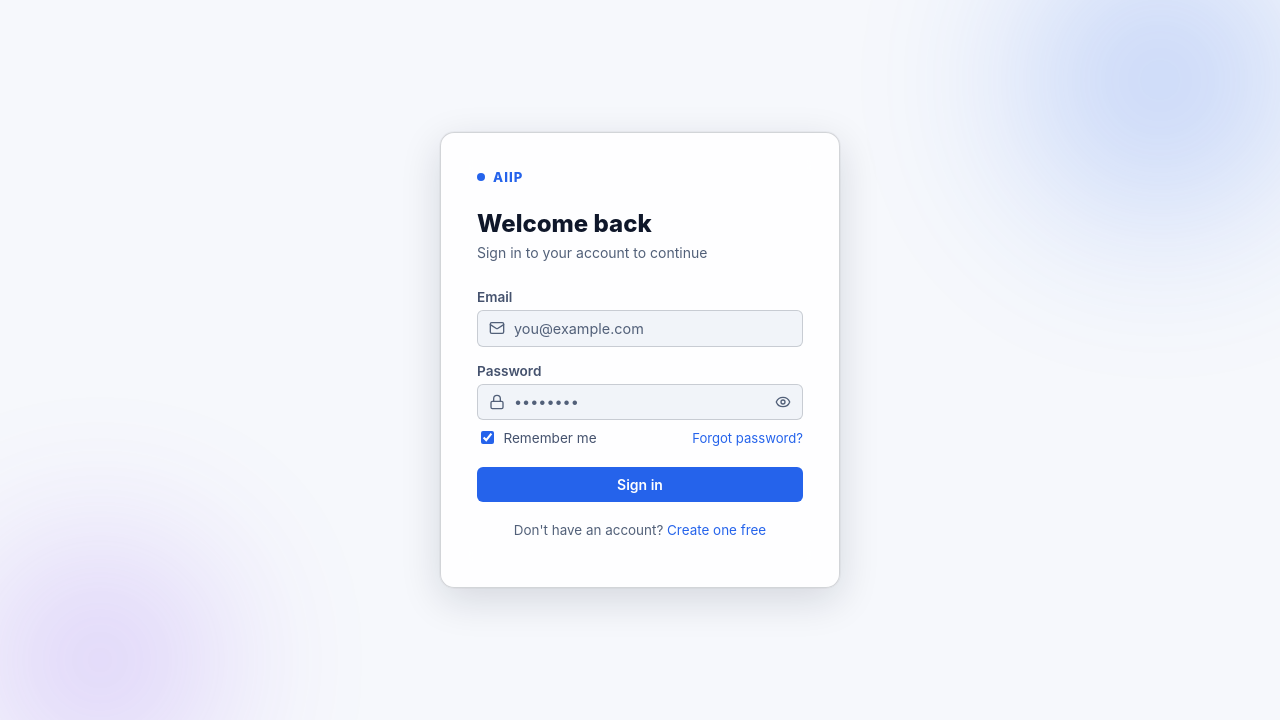
LoginPage › shows the backend's actual error message on a failed login (401)
In the field labelled "Email": (640, 328) [477,310,803,347], type "jane@example.com"
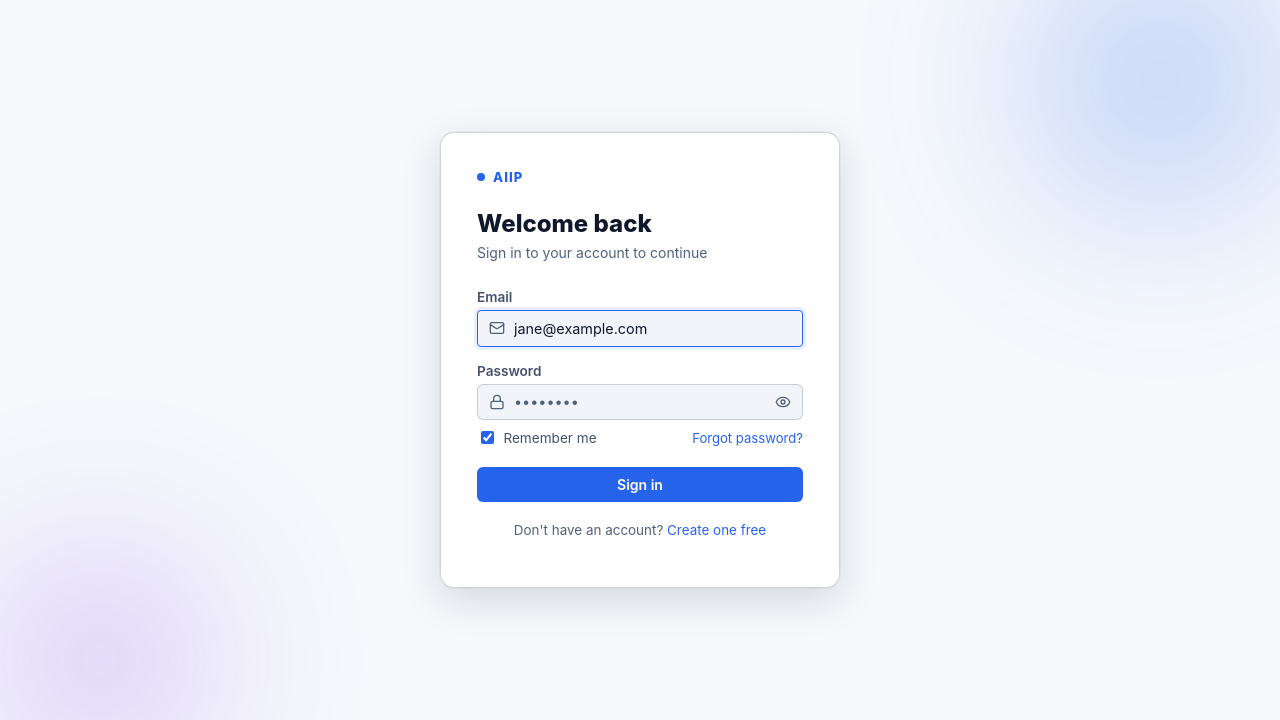
In the password field labelled "Password": (640, 402) [477,384,803,420], type "wrong-password"
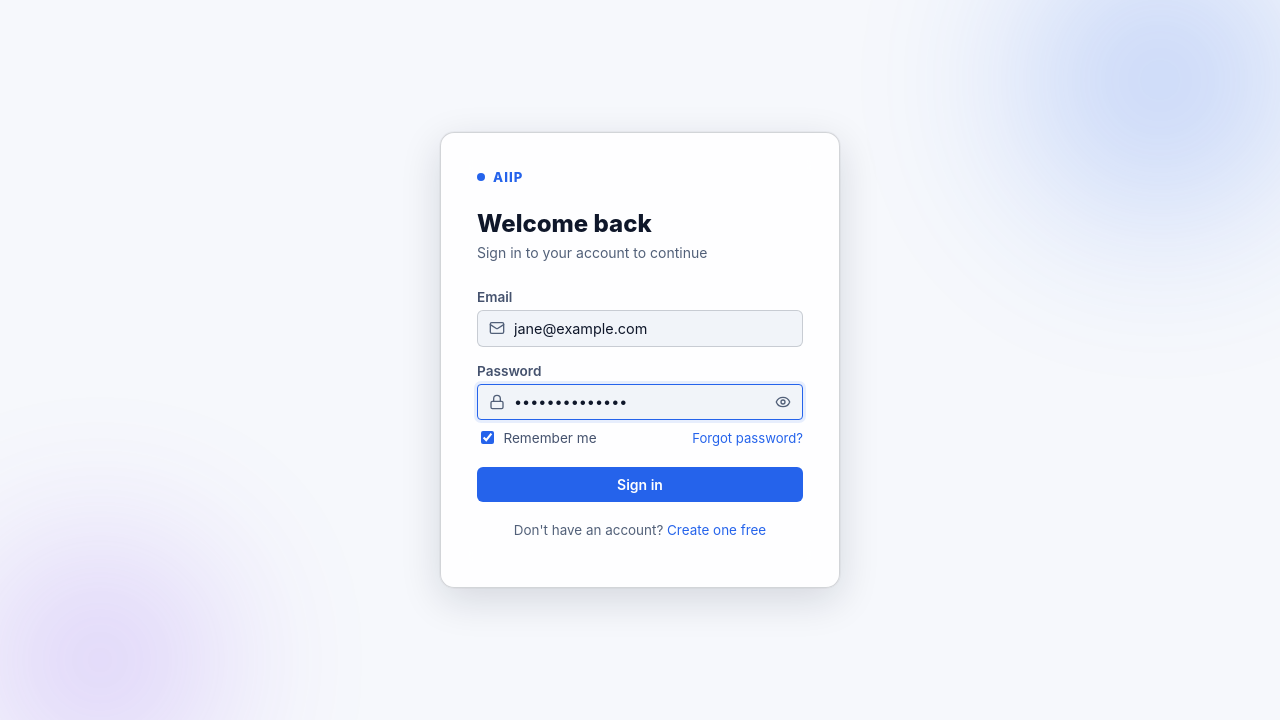
Click the button "Sign in": (640, 484) [477,467,803,502]
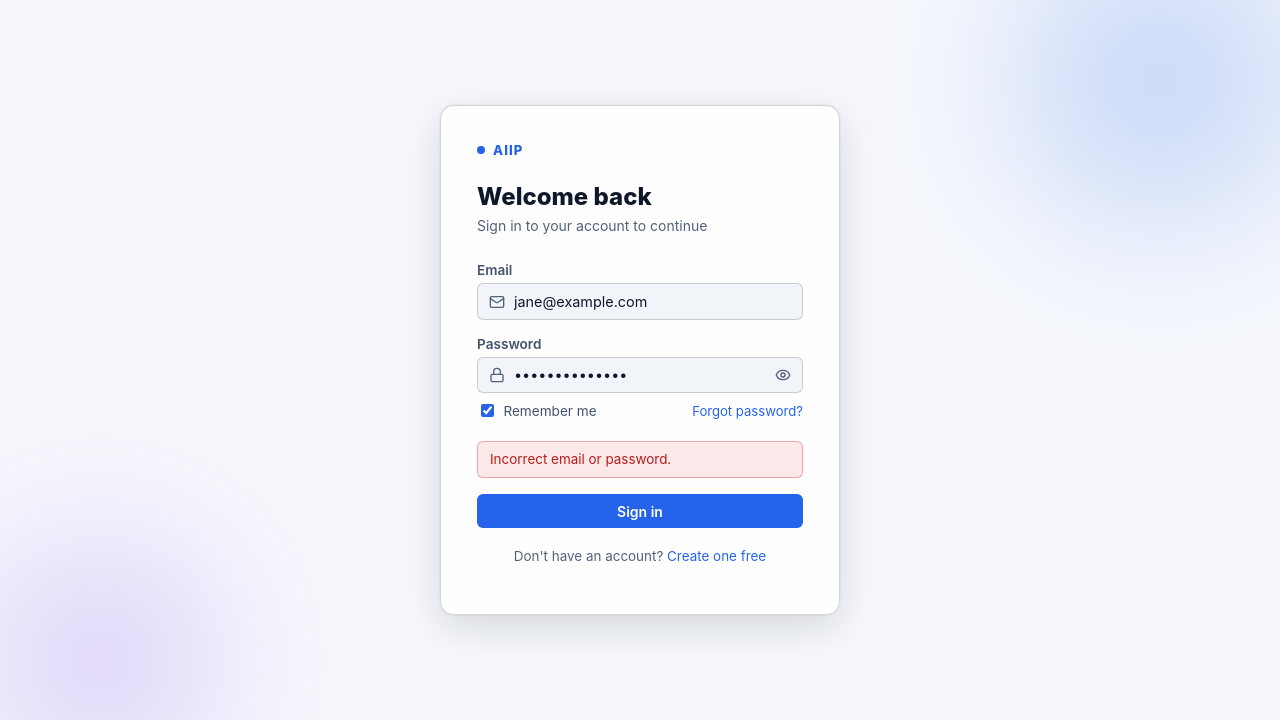
Check: the message reads "Incorrect email or password.", box [490,451,671,467]
